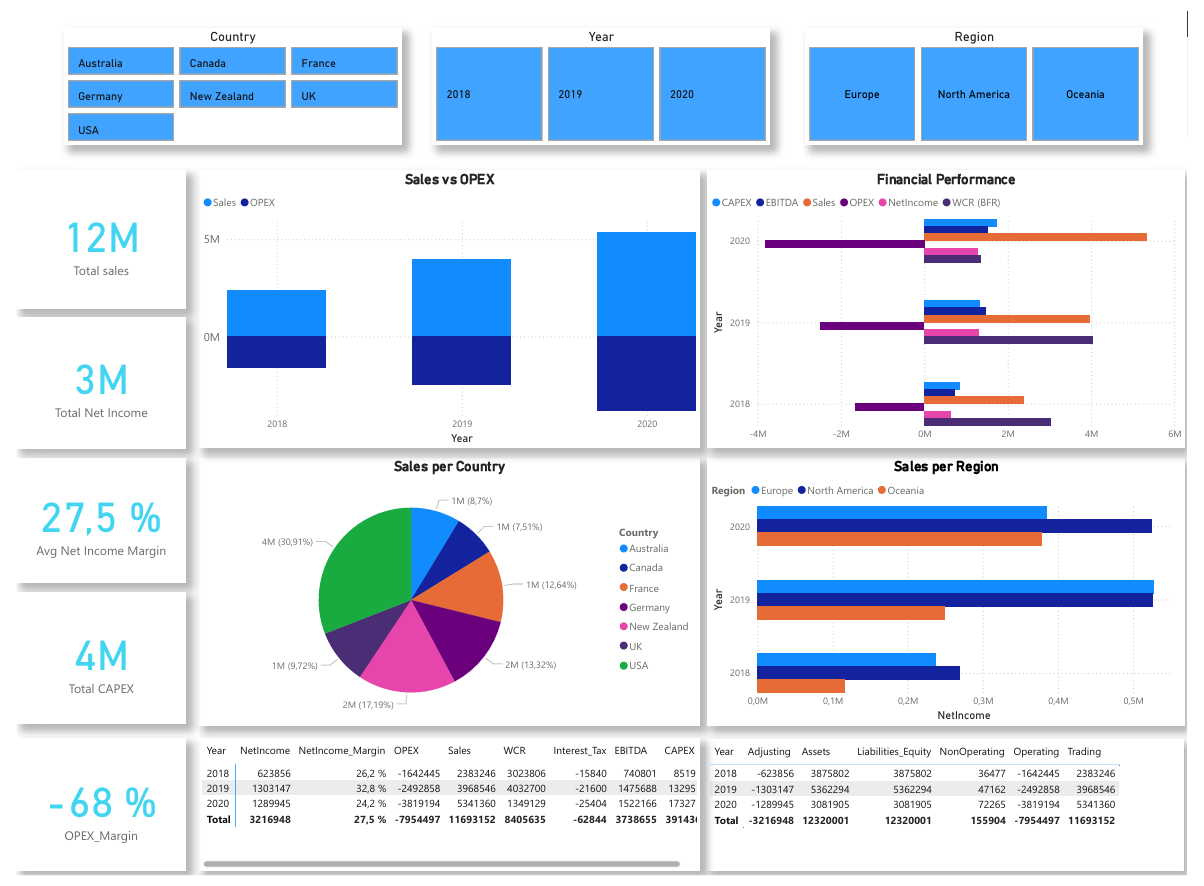

The page's visual inventory and layout, read from the dashboard file:
{"tool":"powerbi","page":{"name":"Financial Performance Dashboard","canvas":[1519,1120],"ordinal":0},"visuals":[{"type":"pieChart","title":"Sales per Country","fields":{"Y":["KPI_Measures.Sales"],"Series":["DimTerritory.Country"]},"box":[237.1,578.6,650,347.1],"z":0},{"type":"columnChart","title":"Sales vs OPEX","fields":{"Category":["DimDate.Year"],"Y":["KPI_Measures.Sales","KPI_Measures.OPEX","select"]},"box":[237.1,205.7,650,360],"z":1000},{"type":"clusteredBarChart","title":"Sales per Region","fields":{"Category":["DimDate.Year"],"Y":["KPI_Measures.NetIncome"],"Series":["DimTerritory.Region"]},"box":[897.1,578.6,620,347.1],"z":2000},{"type":"clusteredBarChart","title":"Financial Performance","fields":{"Category":["DimDate.Year"],"Y":["KPI_Measures.CAPEX","KPI_Measures.EBITDA","KPI_Measures.Sales","KPI_Measures.OPEX","KPI_Measures.NetIncome","KPI_Measures.WCR"]},"box":[897.1,205.7,620,360],"z":3000},{"type":"card","title":"Total sales","fields":{"Values":["KPI_Measures.Sales"]},"box":[0,205.7,220,180],"z":4000},{"type":"card","title":"Total sales","fields":{"Values":["KPI_Measures.NetIncome"]},"box":[0,395.7,220,170],"z":5000},{"type":"card","title":"Total sales","fields":{"Values":["KPI_Measures.NetIncome_Margin"]},"box":[0,578.6,220,162.9],"z":6000},{"type":"card","title":"Total sales","fields":{"Values":["KPI_Measures.CAPEX"]},"box":[0,752.9,220,171.4],"z":7000},{"type":"advancedSlicerVisual","fields":{"Values":["DimTerritory.Region"]},"box":[1023.6,21.8,438.2,150.9],"z":8000},{"type":"advancedSlicerVisual","fields":{"Values":["DimDate.Year"]},"box":[540,21.8,438.2,150.9],"z":9000},{"type":"advancedSlicerVisual","fields":{"Values":["DimTerritory.Country"]},"box":[61.8,21.8,438.2,150.9],"z":10000},{"type":"pivotTable","fields":{"Values":["Financial_Summary.Adjusting","Financial_Summary.Assets","Financial_Summary.Liabilities_Equity","Financial_Summary.NonOperating","Financial_Summary.Operating","Financial_Summary.Trading"],"Rows":["DimDate.Year"]},"box":[896.4,943.6,620,170.9],"z":11000},{"type":"pivotTable","fields":{"Values":["KPI_Measures.NetIncome","KPI_Measures.NetIncome_Margin","KPI_Measures.OPEX","KPI_Measures.Sales","KPI_Measures.WCR","KPI_Measures.Interest_Tax","KPI_Measures.EBITDA","KPI_Measures.CAPEX"],"Rows":["DimDate.Year"]},"box":[236.7,943.3,650,171.7],"z":12000},{"type":"card","title":"Total sales","fields":{"Values":["KPI_Measures.OPEX_Margin"]},"box":[0,943.3,220,171.7],"z":13000}]}

Visuals, with their boxes in screenshot pixels (x1, y1, x2, y2), scaled from the page's 1519x1120 canvas onto the 1204x886 screenshot:
"Sales per Country" pieChart: select_region(188, 458, 703, 732)
"Sales vs OPEX" columnChart: select_region(188, 163, 703, 448)
"Sales per Region" clusteredBarChart: select_region(711, 458, 1202, 732)
"Financial Performance" clusteredBarChart: select_region(711, 163, 1202, 448)
"Total sales" card: select_region(0, 163, 174, 305)
"Total sales" card: select_region(0, 313, 174, 448)
"Total sales" card: select_region(0, 458, 174, 587)
"Total sales" card: select_region(0, 596, 174, 731)
advancedSlicerVisual - DimTerritory.Region: select_region(811, 17, 1159, 137)
advancedSlicerVisual - DimDate.Year: select_region(428, 17, 775, 137)
advancedSlicerVisual - DimTerritory.Country: select_region(49, 17, 396, 137)
pivotTable - Financial_Summary.Adjusting x Financial_Summary.Assets: select_region(711, 746, 1202, 882)
pivotTable - KPI_Measures.NetIncome x KPI_Measures.NetIncome_Margin: select_region(188, 746, 703, 882)
"Total sales" card: select_region(0, 746, 174, 882)
